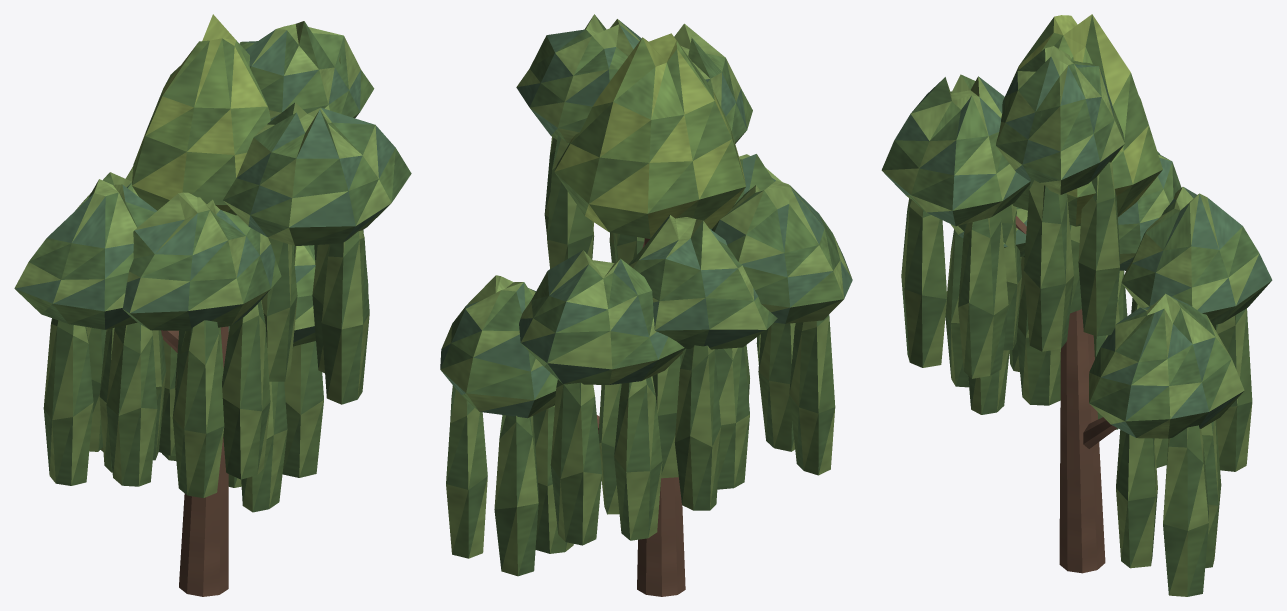
The model's file is tree_willow_02.fbx.
3 views of the same model, side by side, from view 1: azimuth 30°, elevation 25°; view 2: azimuth 150°, elevation 25°; view 3: azimuth 270°, elevation 25° (orthographic). The views are drawn at different scales.
Visible parts, largest first — view 1: tree_willow_02; view 2: tree_willow_02; view 3: tree_willow_02.
Part boxes in pixels (x1,y1,x2,y2): tree_willow_02: (14, 14, 411, 596); tree_willow_02: (440, 14, 852, 596); tree_willow_02: (881, 14, 1272, 596).
Bounding box in the file's own units: 706 × 1035 × 660.
Materials: 1 (1 with a texture image).
